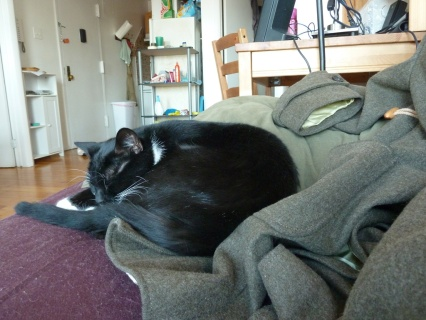Cat: (10, 115, 304, 257)
